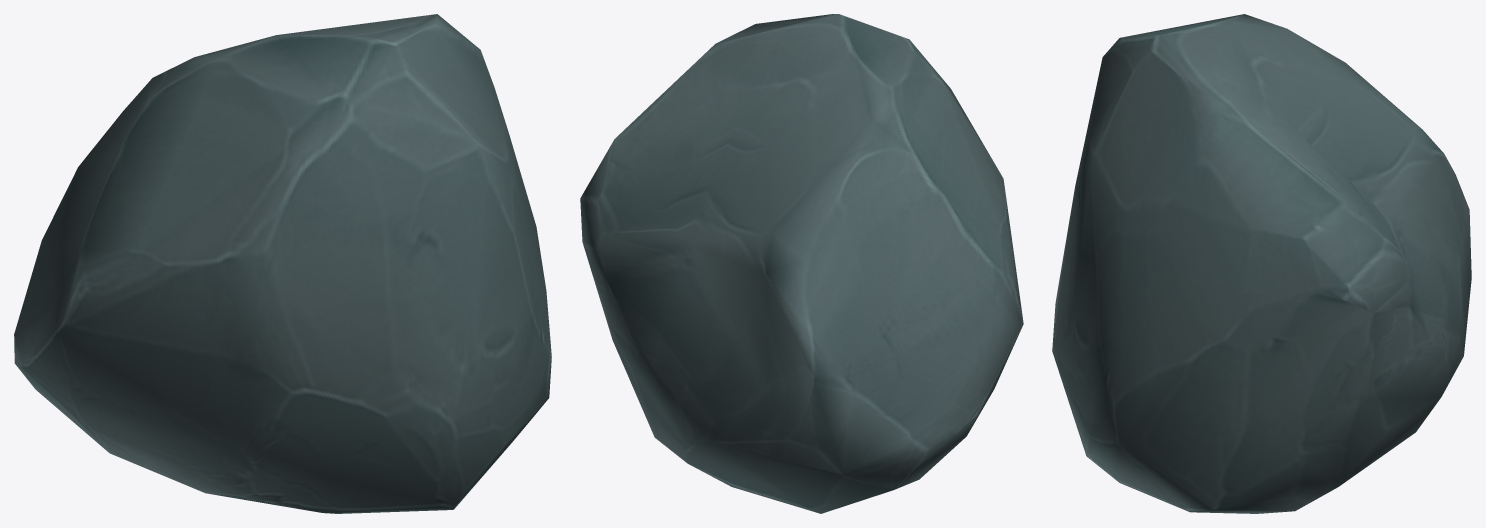
Rendered from rock1.fbx.
3 renders of one model, left to right at view 1: azimuth 30°, elevation 25°; view 2: azimuth 150°, elevation 25°; view 3: azimuth 270°, elevation 25°, orthographic. The views are drawn at different scales.
Parts seen in each view (by area): view 1: polySurface2145; view 2: polySurface2145; view 3: polySurface2145.
Boxes of the visible parts, box(x1,y1,x2,y2) form: polySurface2145: box(14, 14, 551, 513); polySurface2145: box(580, 14, 1023, 513); polySurface2145: box(1052, 14, 1471, 513).
Bounding box in the file's own units: 1.31 × 1.33 × 1.15.
